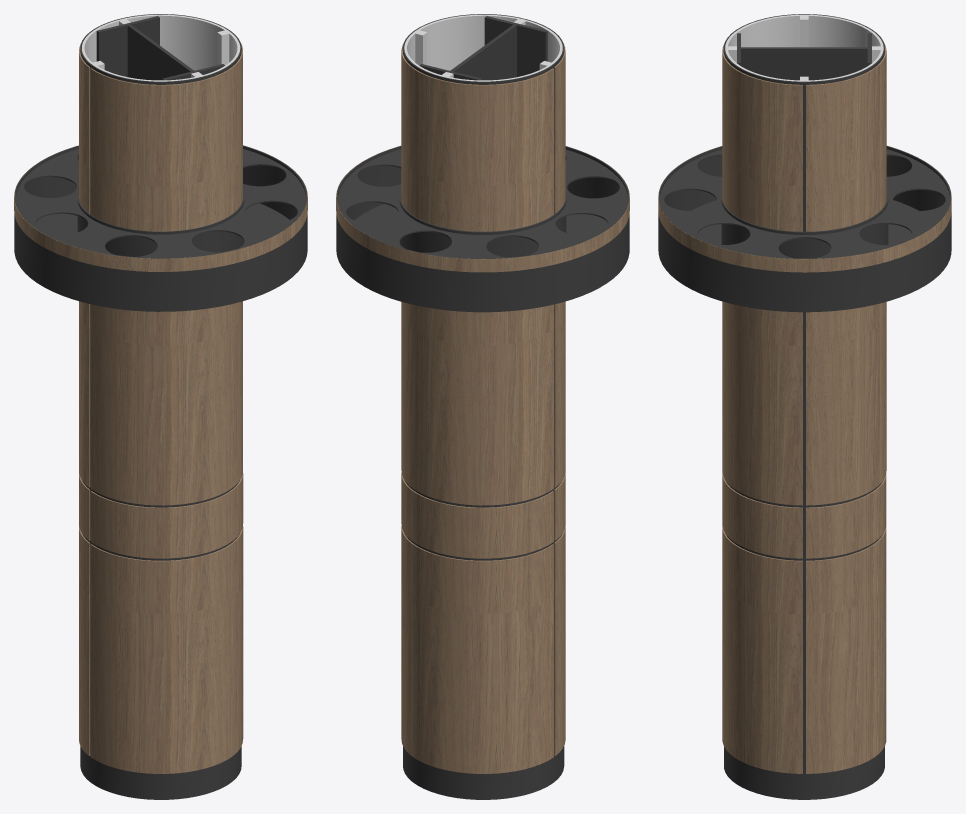
File: Column.glb
3 renders of one model, left to right at view 1: azimuth 30°, elevation 25°; view 2: azimuth 150°, elevation 25°; view 3: azimuth 270°, elevation 25°, orthographic.
Parts seen in each view (by area): view 1: Column; view 2: Column; view 3: Column.
Part boxes in pixels (x1,y1,x2,y2): Column: (14,14,307,799); Column: (336,14,629,799); Column: (658,14,951,799).
Size of the model in its own units: 1 by 2.7 by 1.
Materials: 3 (1 with a texture image).
